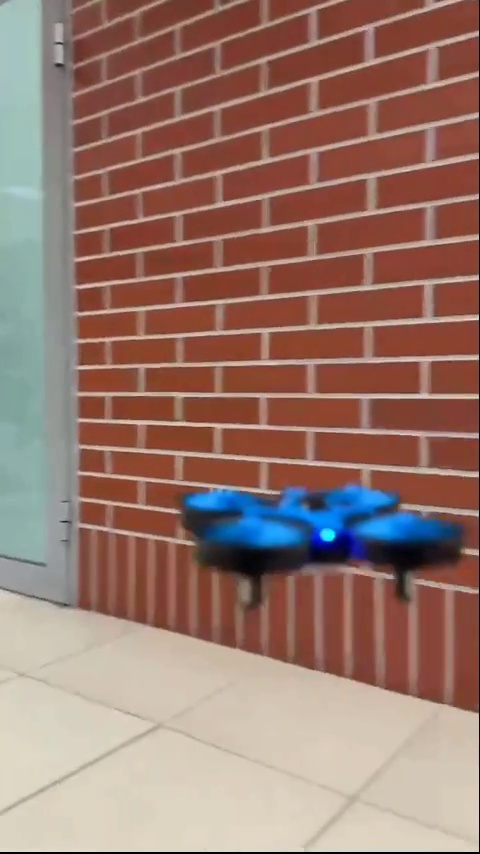drone: (173, 475, 468, 607)
